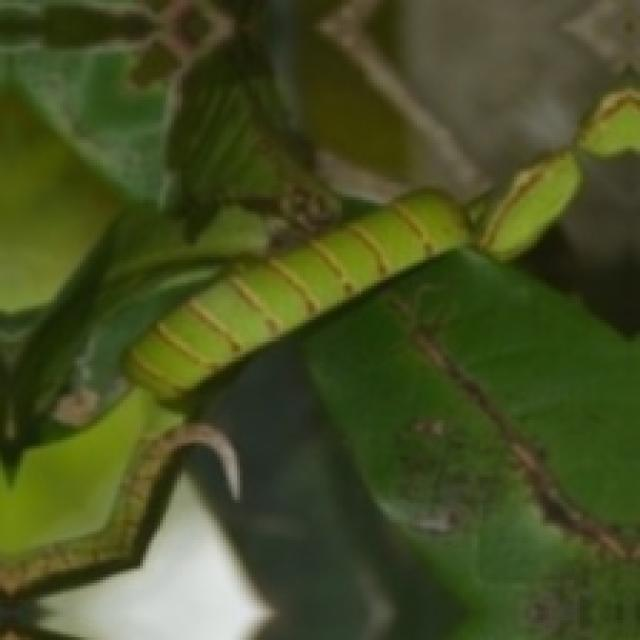north ph temple pitviper: (0, 89, 637, 637)
